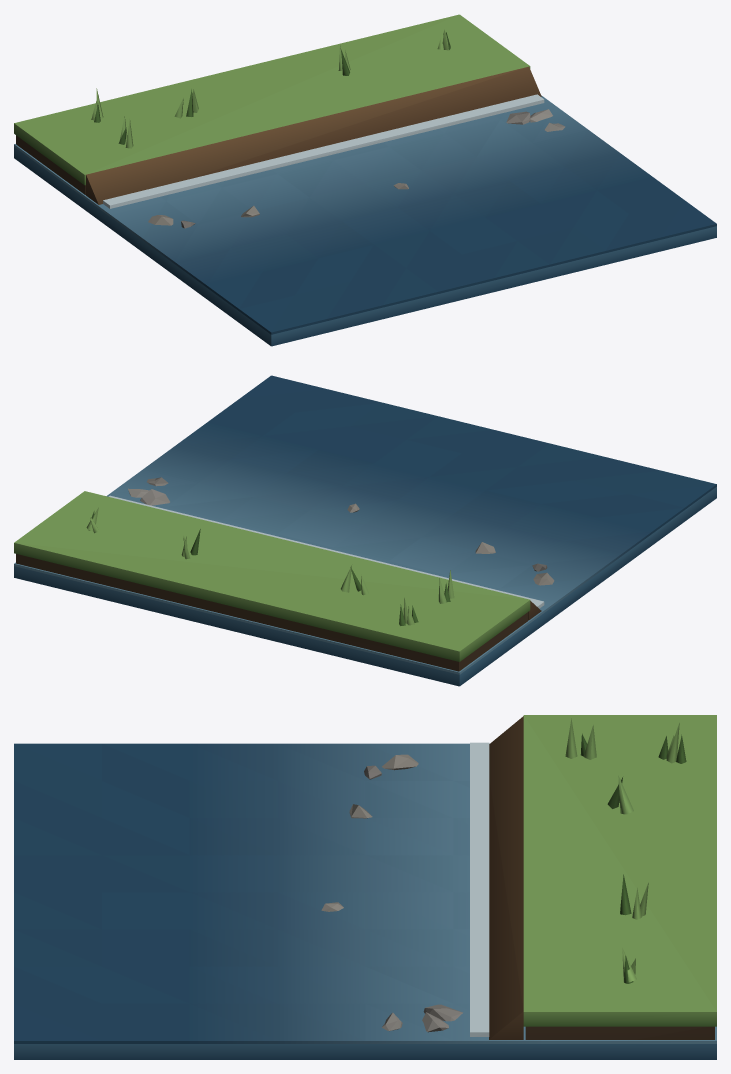
The model's file is shore-straight-fjord.glb.
3 views of the same model, one above another, from view 1: azimuth 30°, elevation 25°; view 2: azimuth 150°, elevation 25°; view 3: azimuth 270°, elevation 25° (orthographic). The views are drawn at different scales.
Parts seen in each view (by area): view 1: shore_straight_fjord; view 2: shore_straight_fjord; view 3: shore_straight_fjord.
Part boxes in pixels (box(x1,y1,x2,y2)): shore_straight_fjord: box(14, 14, 716, 346); shore_straight_fjord: box(14, 375, 716, 686); shore_straight_fjord: box(14, 715, 716, 1059).
Bounding box in the file's own units: 4 × 0.5481 × 4.
